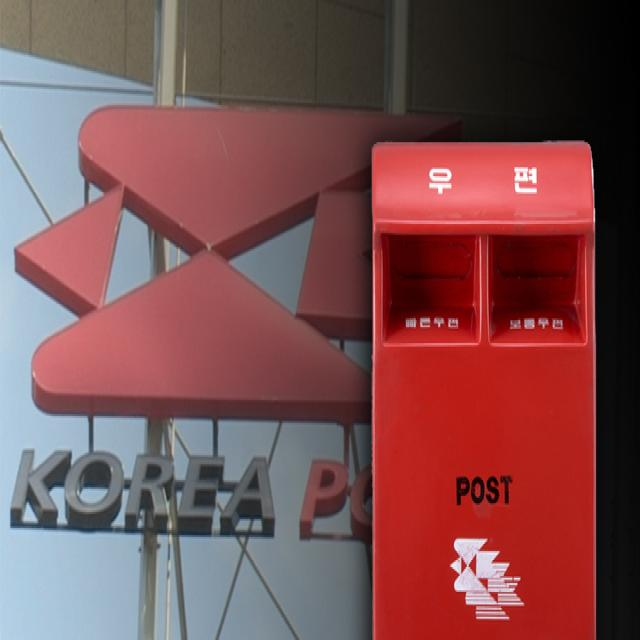Post Box: (372, 139, 597, 640)
